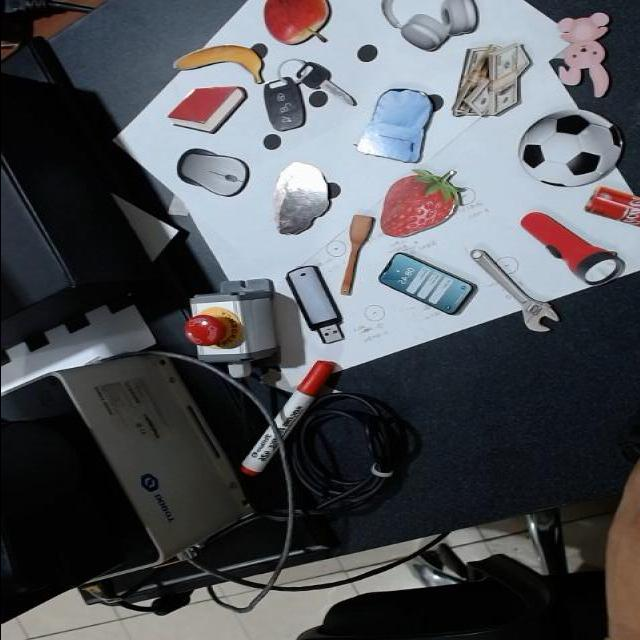Other Objects: (513, 195, 631, 292), (235, 48, 356, 137), (517, 109, 622, 186), (352, 81, 443, 166), (467, 248, 559, 332), (448, 37, 531, 125), (279, 262, 353, 348), (376, 251, 475, 315), (450, 44, 530, 117), (380, 1, 478, 51), (553, 11, 609, 97), (271, 161, 328, 234), (171, 44, 263, 84), (174, 45, 265, 83), (177, 150, 247, 195), (336, 213, 373, 296), (261, 0, 329, 45), (584, 186, 639, 227)
